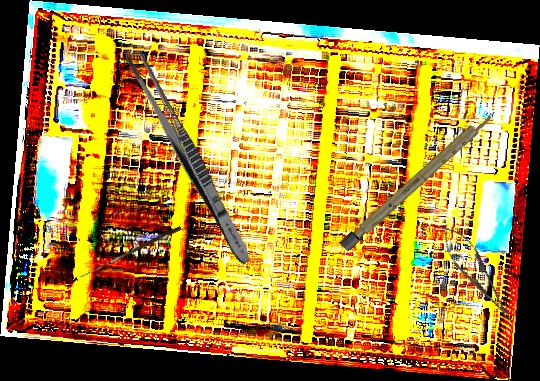Dressing Forceps: (121, 49, 258, 268)
Hook Surgical: (80, 224, 182, 282)
Needle Holder: (432, 218, 522, 329)
Scalpel Handle: (339, 109, 496, 252)
